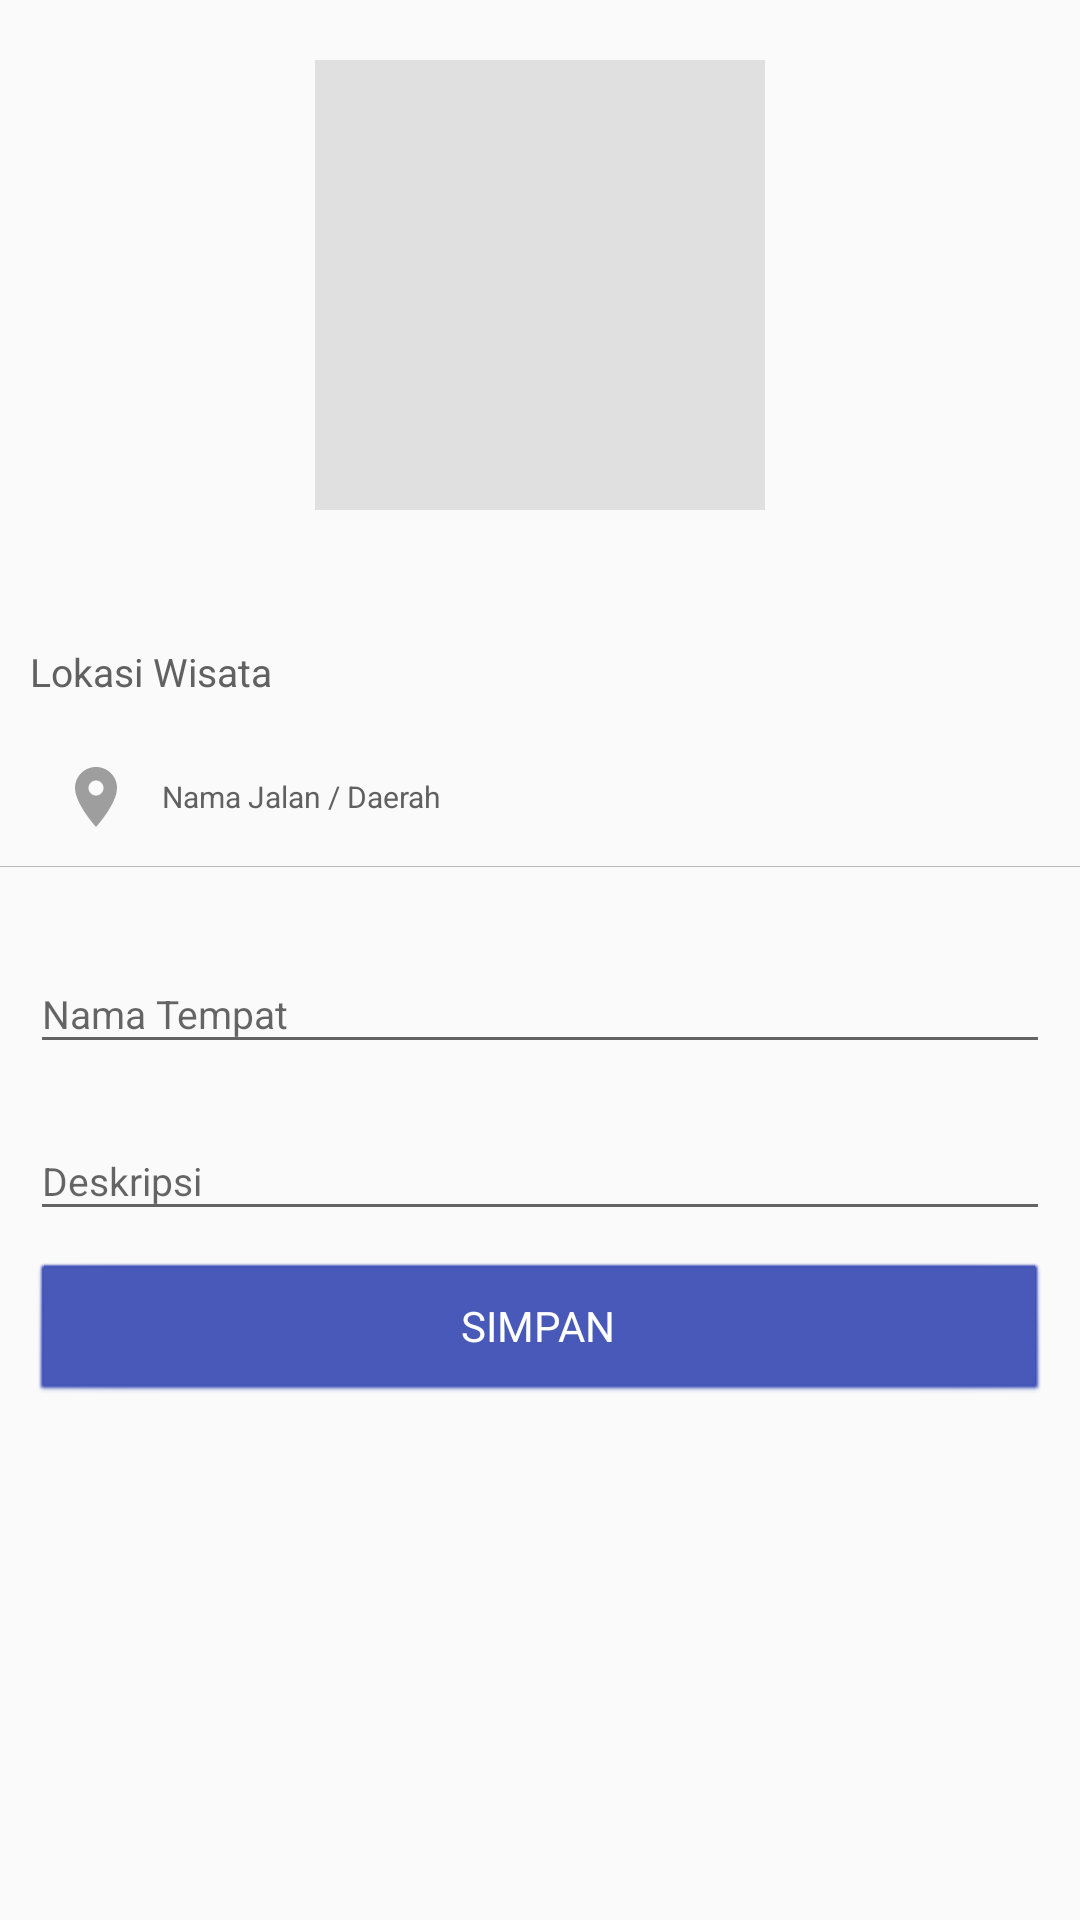

Icons on this 1080x1920 Android screen, each with its box as (x1, y1, x2, y2):
location on: (75, 767, 117, 827)
